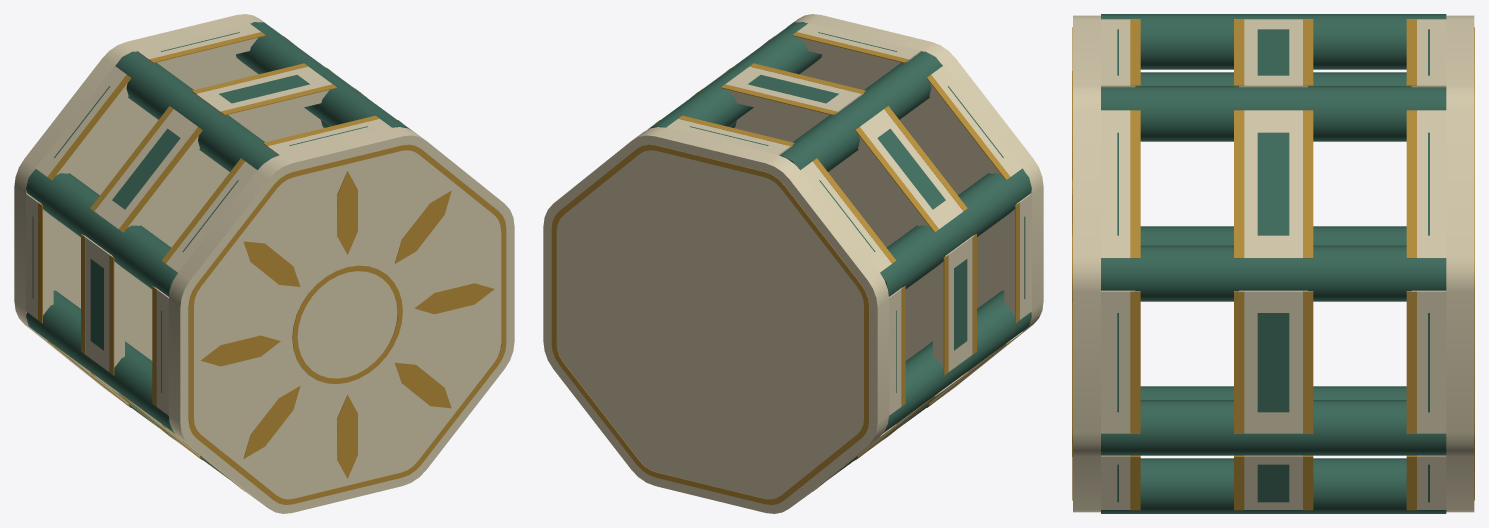
The model's file is h80_housing.obj.
The picture shows the model from 3 angles, left to right: view 1: azimuth 30°, elevation 25°; view 2: azimuth 150°, elevation 25°; view 3: azimuth 270°, elevation 25°; orthographic projection. The views are drawn at different scales.
Parts seen in each view (by area): view 1: h80_housing; view 2: h80_housing; view 3: h80_housing.
Part boxes in pixels (box(x1,y1,x2,y2)): h80_housing: box(14, 14, 514, 513); h80_housing: box(543, 14, 1043, 513); h80_housing: box(1072, 14, 1474, 513).
Bounding box in the file's own units: 5.04 × 5.04 × 4.35.
